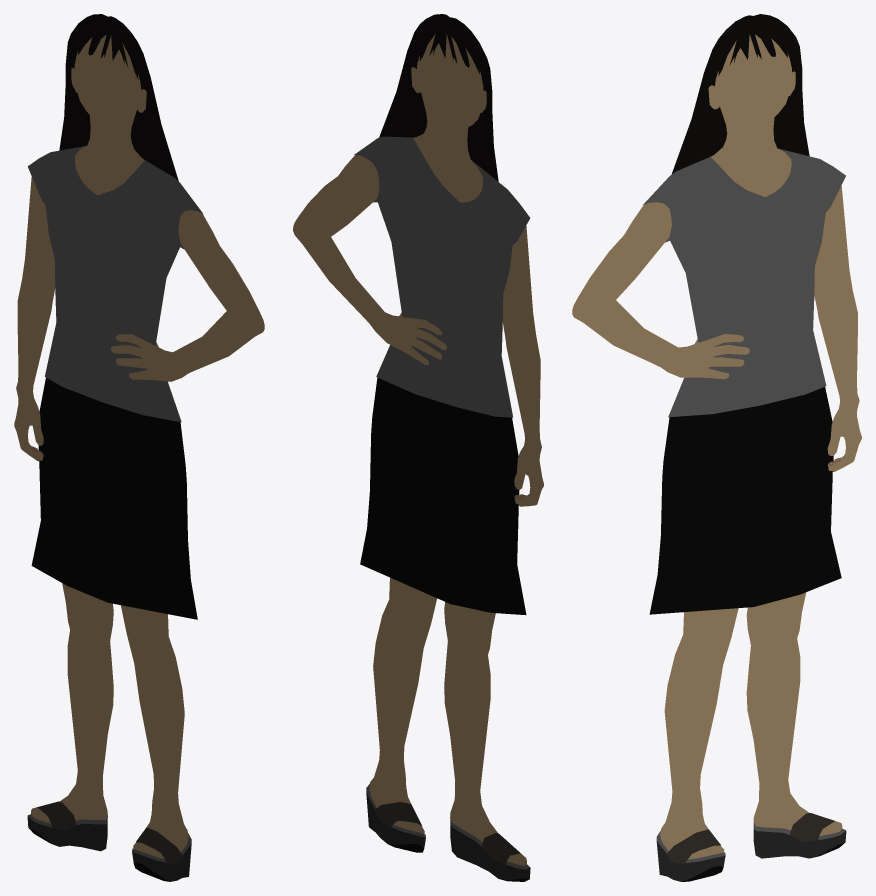
The model's file is Sophie.dae.
3 views of the same model, side by side, from view 1: azimuth 30°, elevation 25°; view 2: azimuth 210°, elevation 25°; view 3: azimuth 270°, elevation 25° (orthographic).
Parts seen in each view (by area): view 1: Sophie (×12); view 2: Sophie (×12); view 3: Sophie (×12).
Part boxes in pixels (x1,y1,x2,y2): Sophie (×12): (14, 14, 264, 881); Sophie (×12): (293, 14, 543, 879); Sophie (×12): (572, 14, 861, 881).
Bounding box in the file's own units: 8.8 × 20.45 × 66.64.
